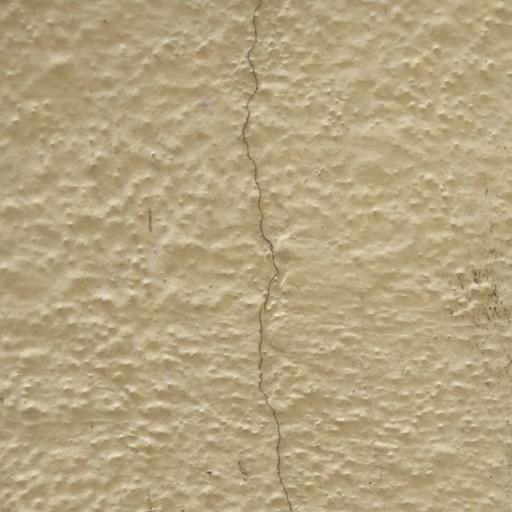minor_crack: (231, 0, 304, 512)
